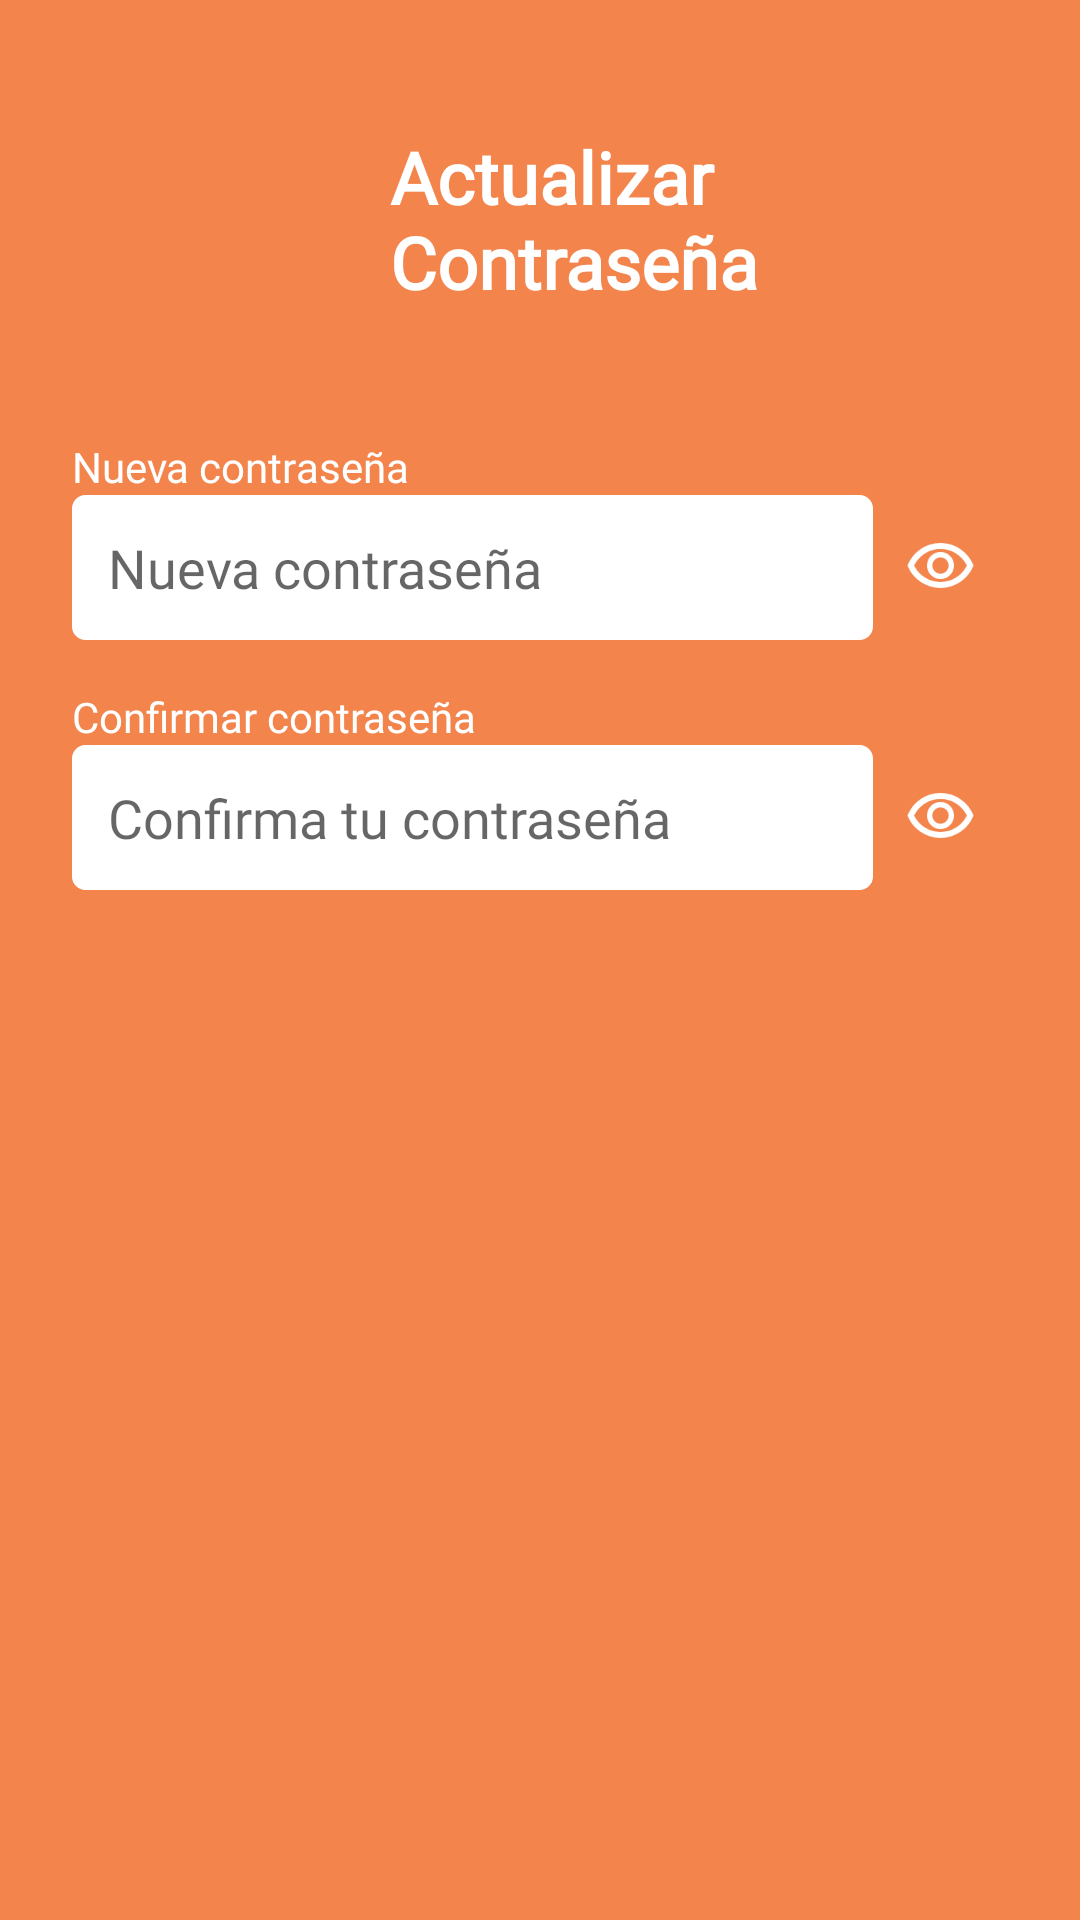

Icons on this 1080×1920 Android screen, each with its box as (x1, y1, x2, y2):
Toggle password visibility: (907, 543, 974, 588), (907, 793, 974, 838)
